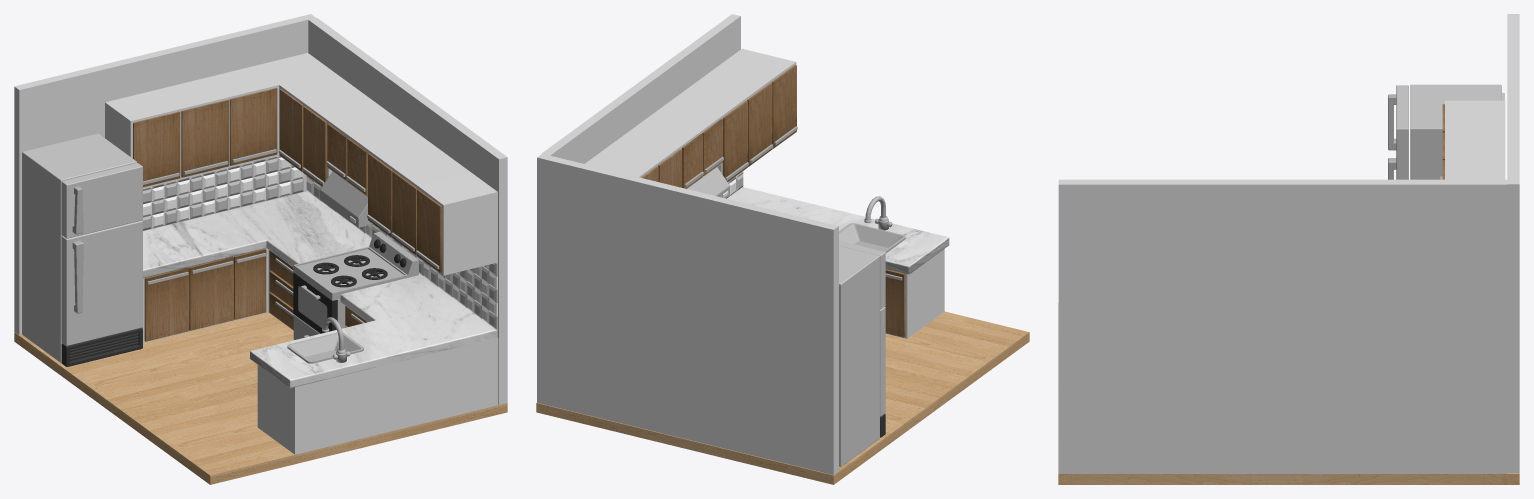
Rendered from kitchen.glb.
The picture shows the model from 3 angles, left to right: view 1: azimuth 30°, elevation 25°; view 2: azimuth 150°, elevation 25°; view 3: azimuth 270°, elevation 25°; orthographic projection. The views are drawn at different scales.
Parts seen in each view (by area): view 1: Cube.035, Counter_Top, Cube.006, Floor, Cube.036, Cube.037, Cube.001, cab.005, Cube.027, cab.004, Cube.038, cab1 (+14 smaller); view 2: Cube.036, Cube.035, Cube.006, Cube.001, Cube.037, cab1, Counter_Top, Floor, cab.002, cab.010, Plane, cab.001 (+3 smaller); view 3: Cube.037, Cube.036, Cube.035, Cube.006, Cube.001, Cube.026.
Boxes of the visible parts, left/top/right/bottom form: Cube.035: left=14, top=312, right=507, bottom=484; Counter_Top: left=143, top=191, right=497, bottom=388; Cube.006: left=105, top=53, right=497, bottom=275; Floor: left=142, top=248, right=498, bottom=454; Cube.036: left=14, top=14, right=315, bottom=335; Cube.037: left=308, top=17, right=507, bottom=404; Cube.001: left=22, top=133, right=136, bottom=362; cab.005: left=133, top=88, right=277, bottom=187; Cube.027: left=61, top=220, right=142, bottom=345; cab.004: left=144, top=248, right=266, bottom=341; Cube.038: left=142, top=155, right=303, bottom=230; cab1: left=368, top=153, right=442, bottom=272; Cube.036: left=537, top=154, right=838, bottom=474; Cube.035: left=536, top=311, right=1029, bottom=484; Cube.006: left=585, top=48, right=796, bottom=188; Cube.001: left=839, top=246, right=879, bottom=466; Cube.037: left=541, top=14, right=740, bottom=163; cab1: left=722, top=65, right=796, bottom=181; Counter_Top: left=727, top=187, right=949, bottom=274; Floor: left=885, top=249, right=944, bottom=338; cab.002: left=682, top=119, right=722, bottom=188; cab.010: left=885, top=269, right=905, bottom=337; Plane: left=839, top=223, right=905, bottom=253; cab.001: left=641, top=149, right=681, bottom=187; Cube.037: left=1058, top=179, right=1507, bottom=473; Cube.036: left=1507, top=14, right=1519, bottom=472; Cube.035: left=1058, top=303, right=1519, bottom=484; Cube.006: left=1445, top=100, right=1505, bottom=179; Cube.001: left=1410, top=84, right=1504, bottom=179; Cube.026: left=1396, top=85, right=1408, bottom=179.
Bounding box in the file's own units: 8.82 × 7.23 × 10.06.
11 materials, 4 textured.
